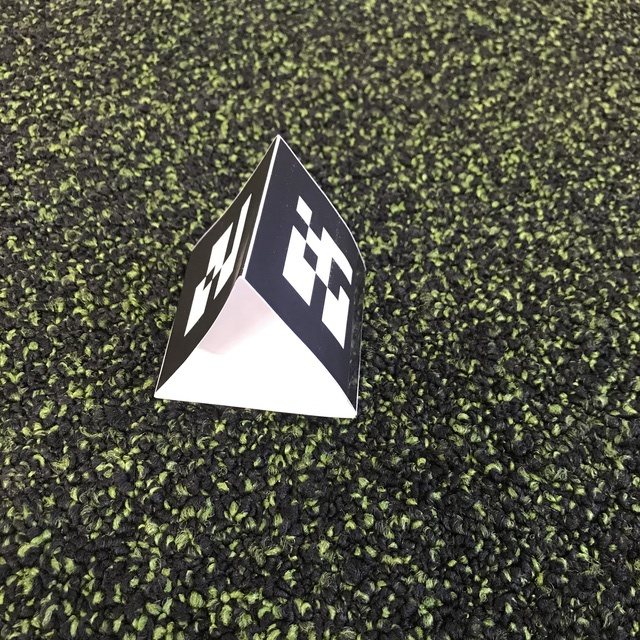ARTag: (152, 134, 365, 421)
